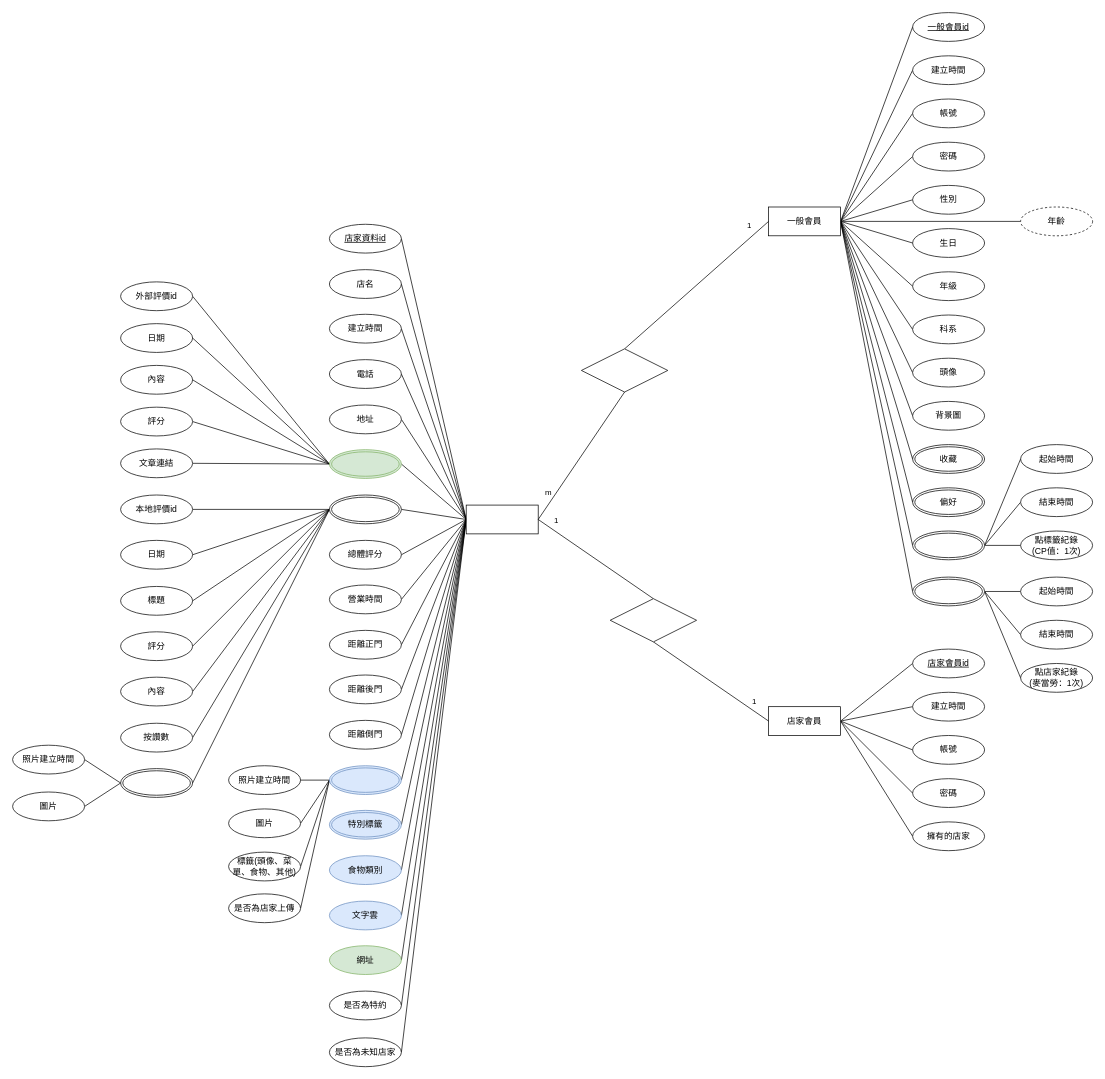
This 1105x1079 diagram has some shape labels left out. The centre of each missing label's shape, as x and y in pixels:
"外部評價" goes at pixel 365 463.
"店家資料" goes at pixel 501 519.
"本地評價" goes at pixel 365 509.
"瀏覽" goes at pixel 624 370.
"照片" goes at pixel 365 780.
"管理" goes at pixel 653 620.
"評價內照片" goes at pixel 156 782.
"點擊店家紀錄" goes at pixel 948 591.
"點擊標籤紀錄" goes at pixel 948 545.
